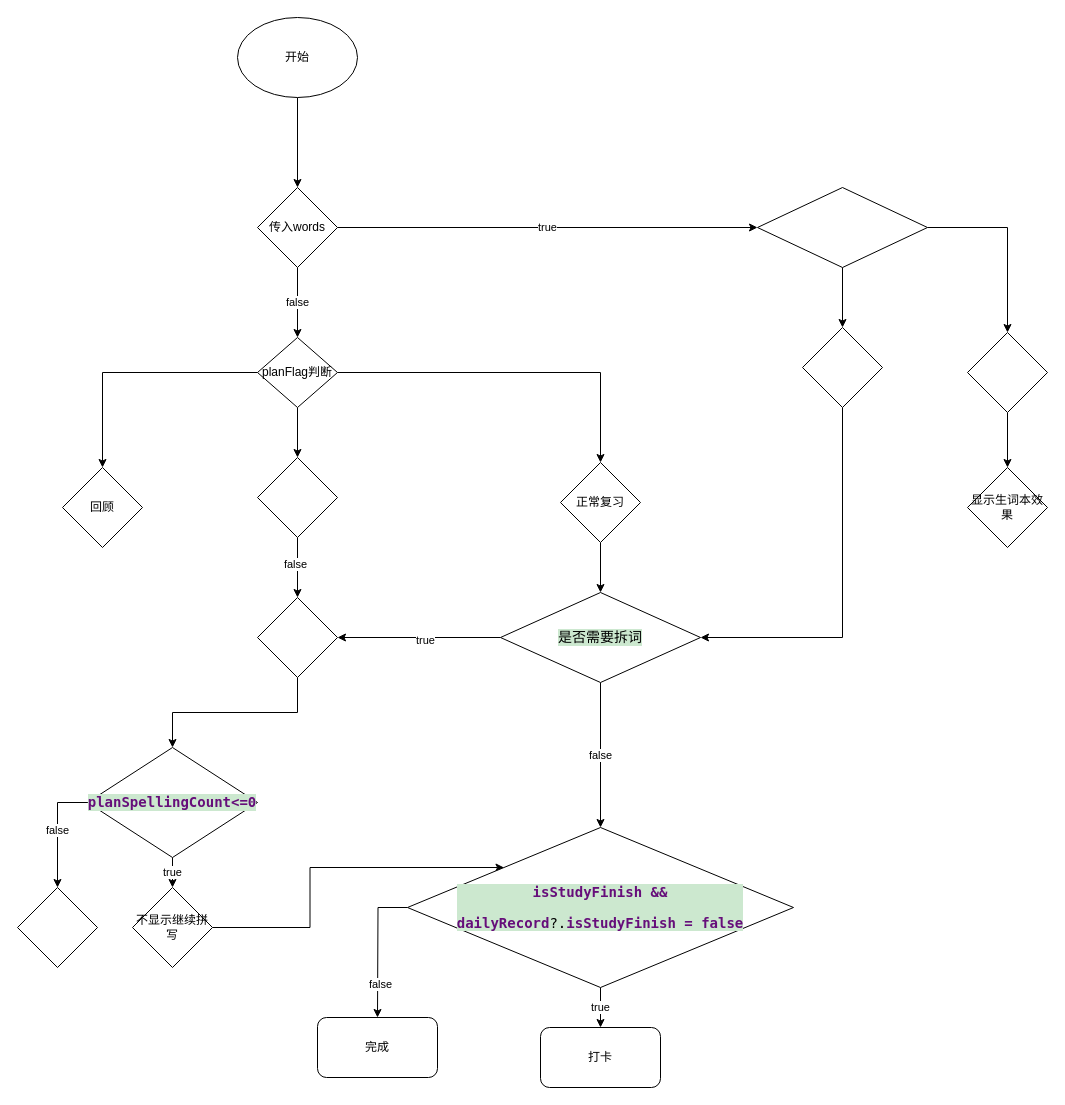
Image size: 1065x1105. Some labels were removed from this diagram. The shapes that lost their labels are listed below. From the top down, each one's centre as x and y in pixels, then its label:
At point (842, 227): "生词本，错词，学习记录".
At point (842, 367): "错词、学习记录".
At point (1007, 372): "生词本".
At point (297, 497): "拆词".
At point (297, 637): "是否隐藏休息一下".
At point (57, 927): "显示继续拼写".
